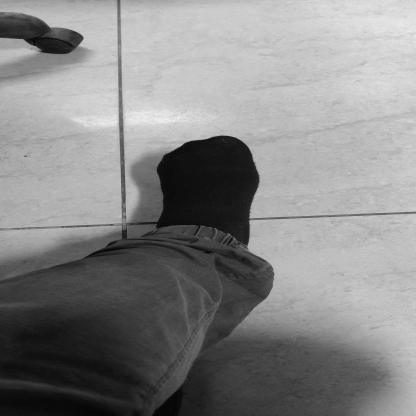ankle: (217, 228, 221, 230)
heel: (244, 245, 247, 246)
left_foot: (157, 136, 261, 255)
pinky: (163, 166, 165, 168)
toe: (224, 138, 228, 139)
